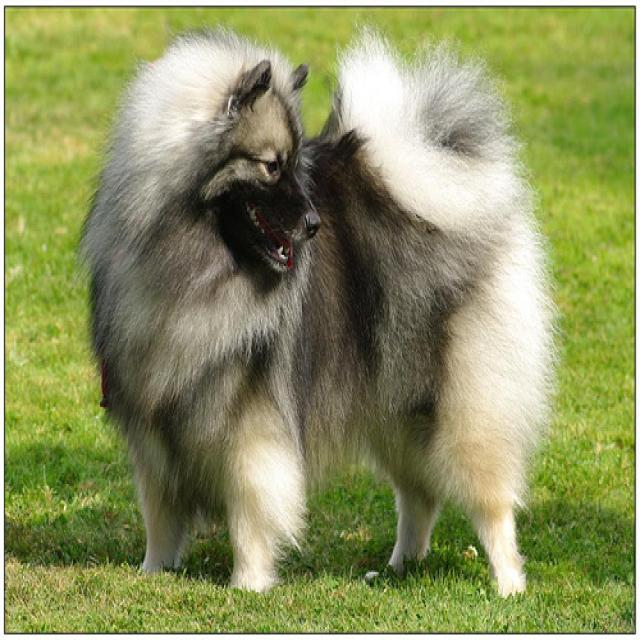dog-keeshond: (74, 29, 561, 614)
